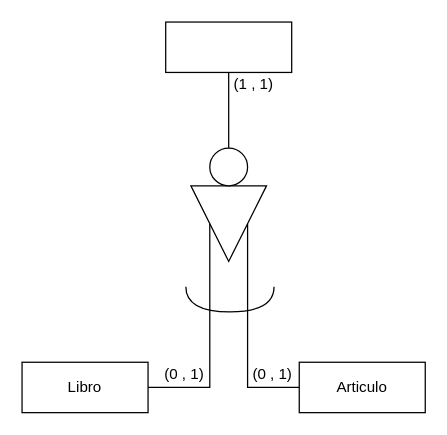
Image size: 447x435. Some labels were removed from this diagram. The centre of each missing label's shape, as x and y in pixels:
"Documento" belongs at [228,46].
"Es" belongs at [228,223].
